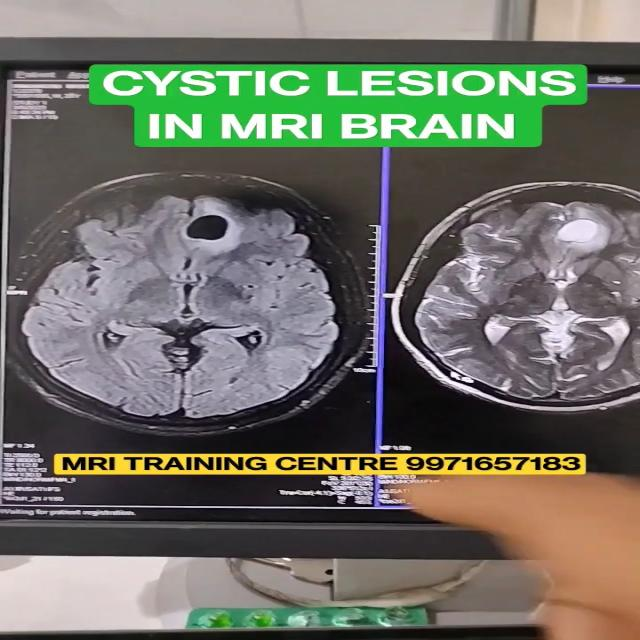tumor: (534, 201, 640, 261), (167, 206, 259, 250)
